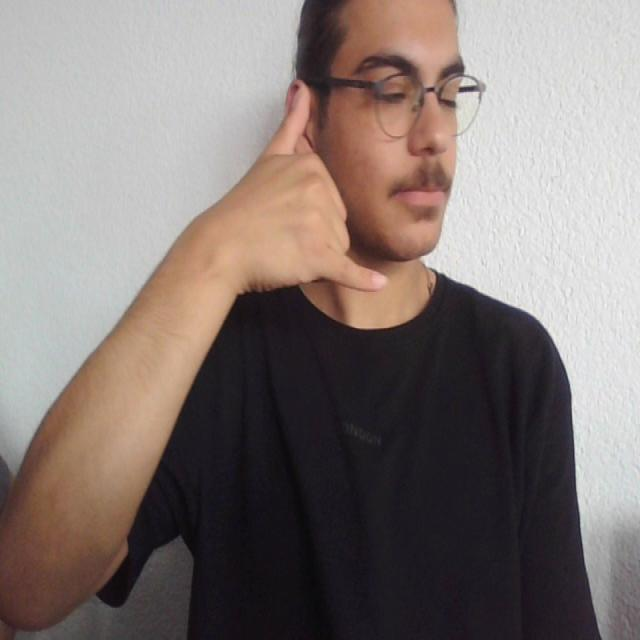Telefon: (243, 88, 367, 285)
